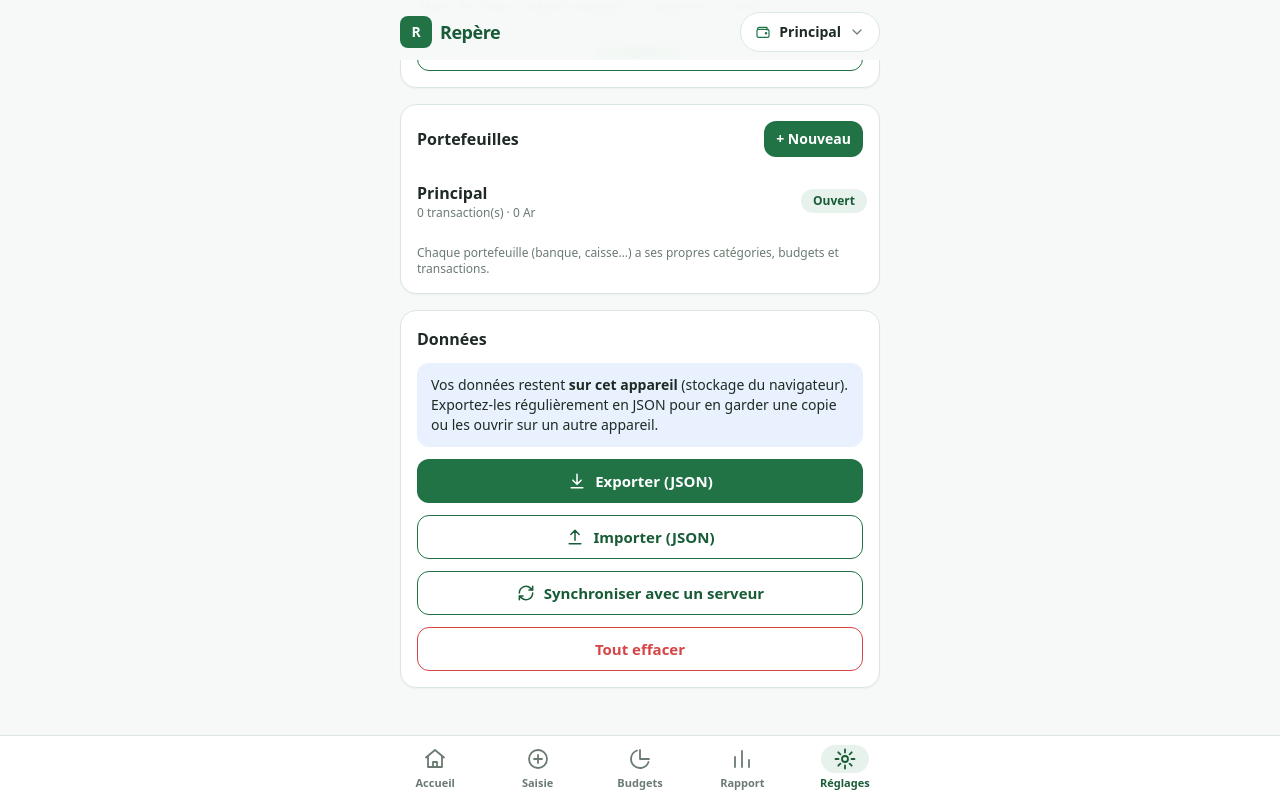
Test: écran de synchronisation › se connecte par l'adresse saisie
(page scrolled)
Click the button "Synchroniser avec un serveur". click: (640, 593)
box: [417,571,863,615]
(page scrolled)
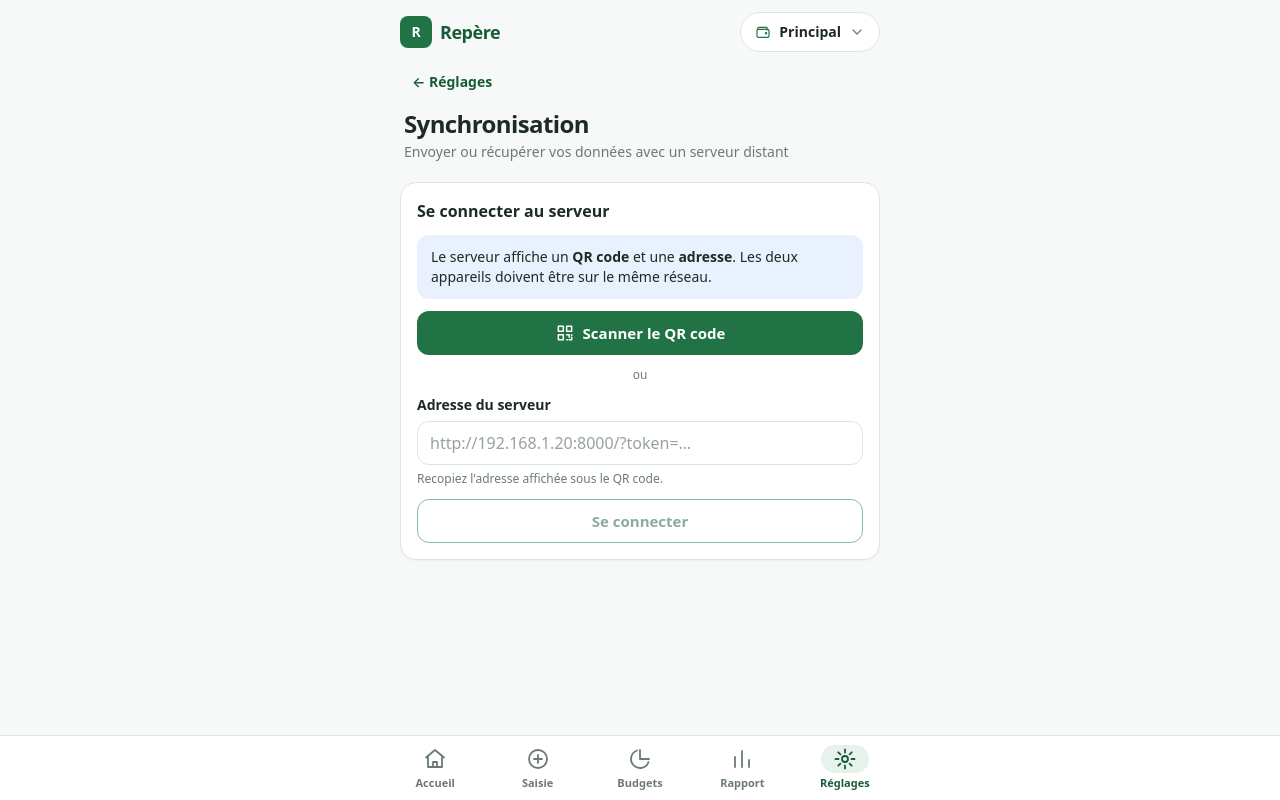
Expected: the button "Se connecter" is disabled, [417,499,863,543]
Type "http://192.168.1.20:8000/?token=zLhJ-QcsSdyX2bOC3o6SjA" into the field labelled "Adresse du serveur". click: (640, 443)
box: [417,421,863,465]
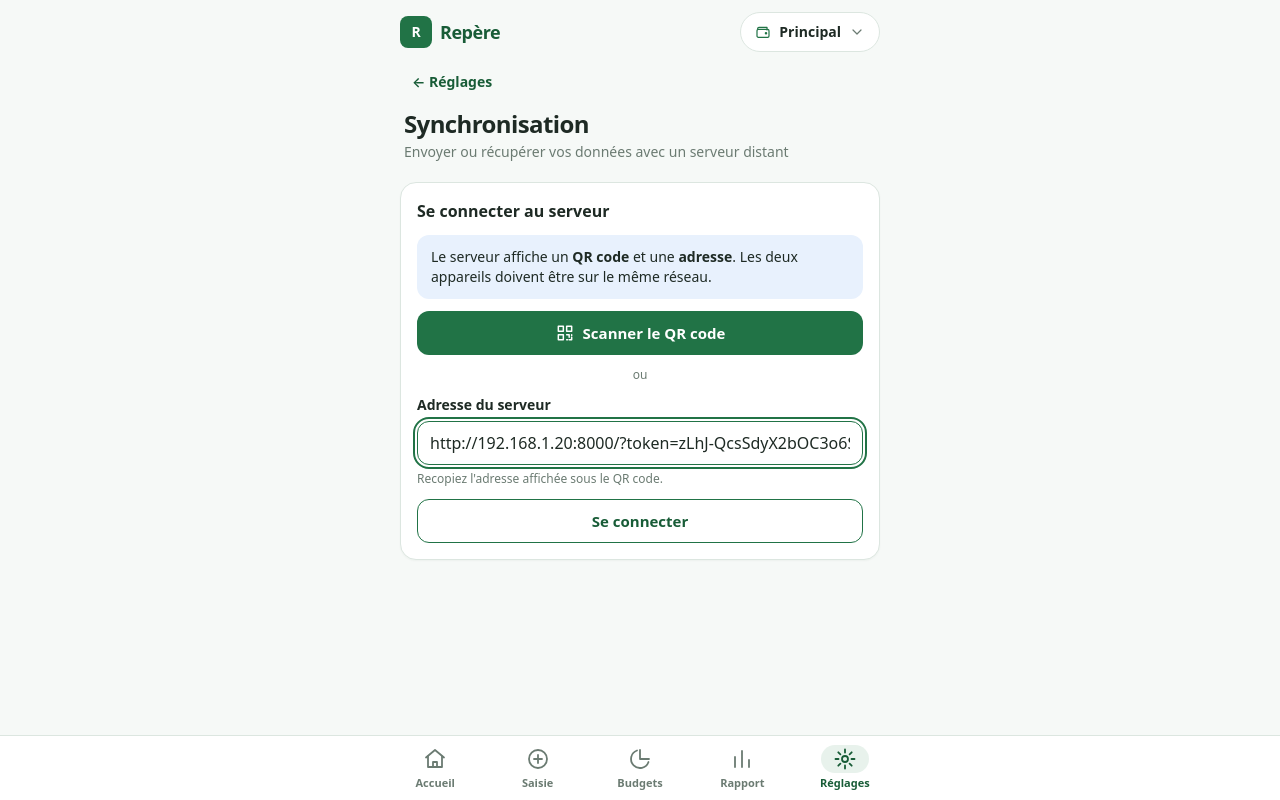
Click the button "Se connecter". click: (640, 521)
box: [417,499,863,543]
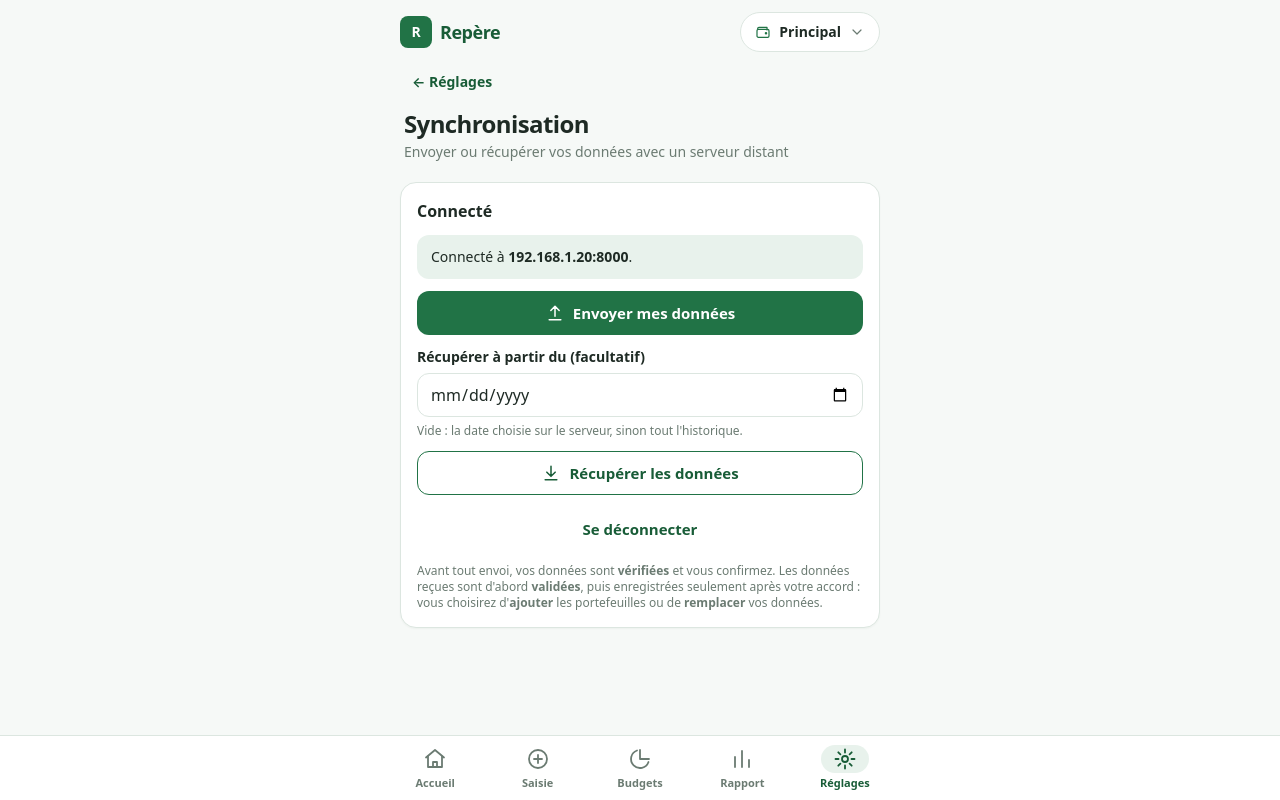
Expected: the text "Connecté à 192.168.1.20:8000." is shown, [431,247,632,266]
Expected: the text "192.168.1.20:8000" is shown, [508,247,628,266]
